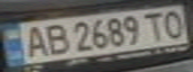2: (69, 18, 93, 53)
6: (90, 16, 112, 50)
8: (106, 15, 127, 47)
9: (121, 12, 145, 45)
A: (18, 24, 51, 58)
B: (39, 21, 72, 56)
O: (157, 7, 190, 39)
T: (139, 9, 172, 42)
